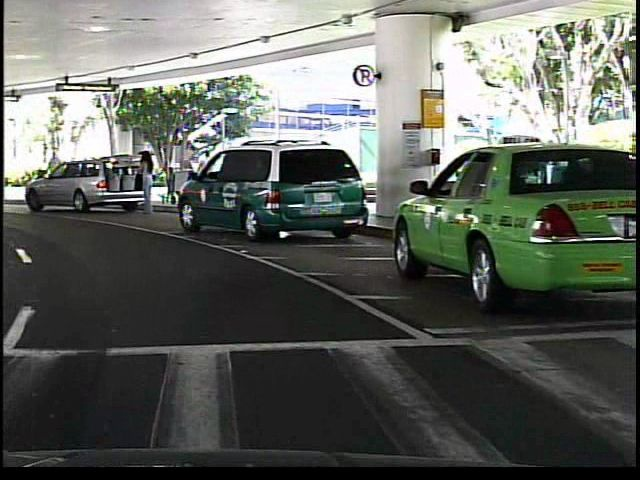person: (134, 146, 154, 220), (39, 148, 64, 200), (153, 154, 175, 212)
